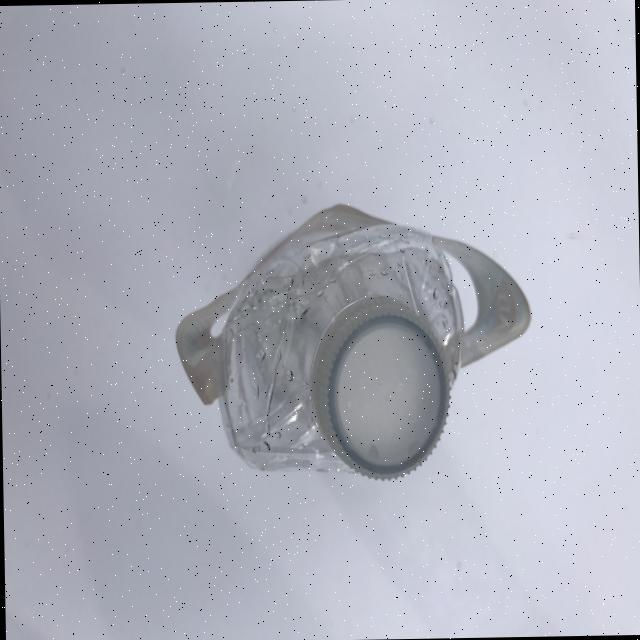plastic: (172, 198, 534, 485)
